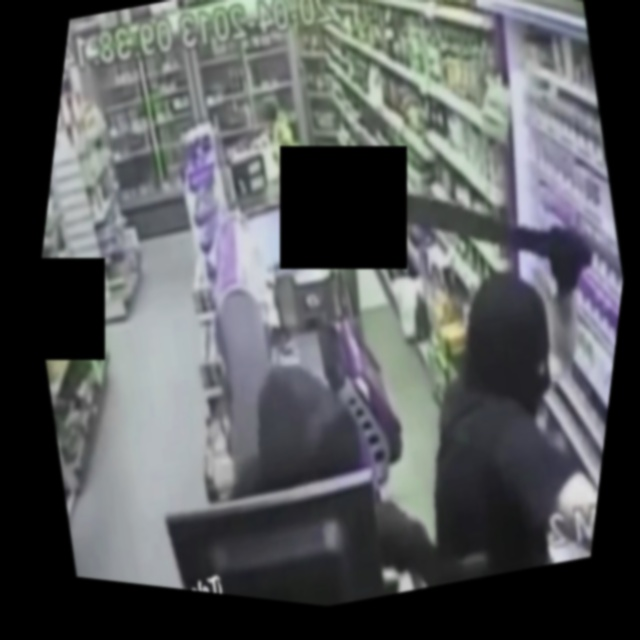gun: (366, 127, 609, 318)
